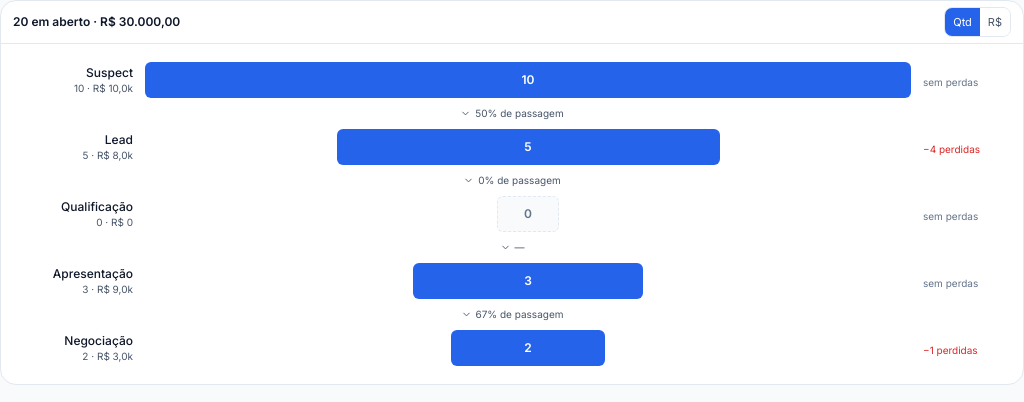
Scenario: FunilOportunidades — o painel da fase › o cabeçalho do painel traz os totais da fase
The width and height of the screenshot is (1024, 402).
Click the button with aria-label "Ver oportunidades em Apresentação".
click(512, 281)  # box [13,257,1011,305]
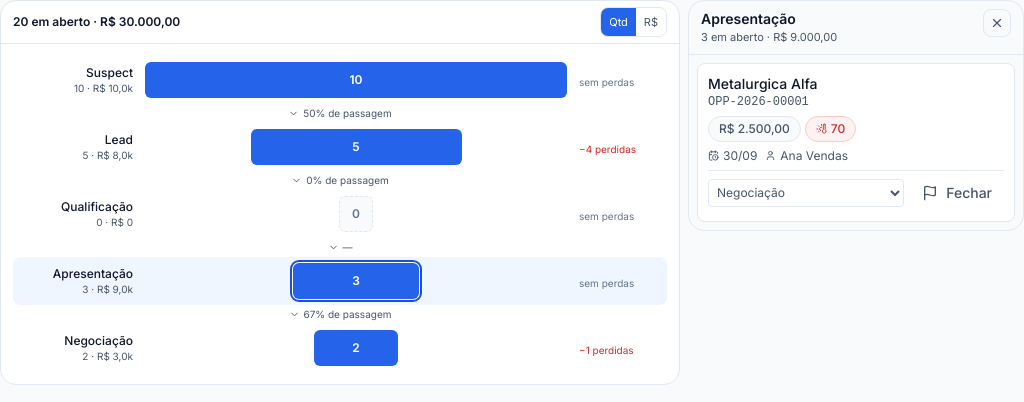
expect the text "3 em aberto · R$ 9.000,00" is shown: met, box [701,29,837,46]
